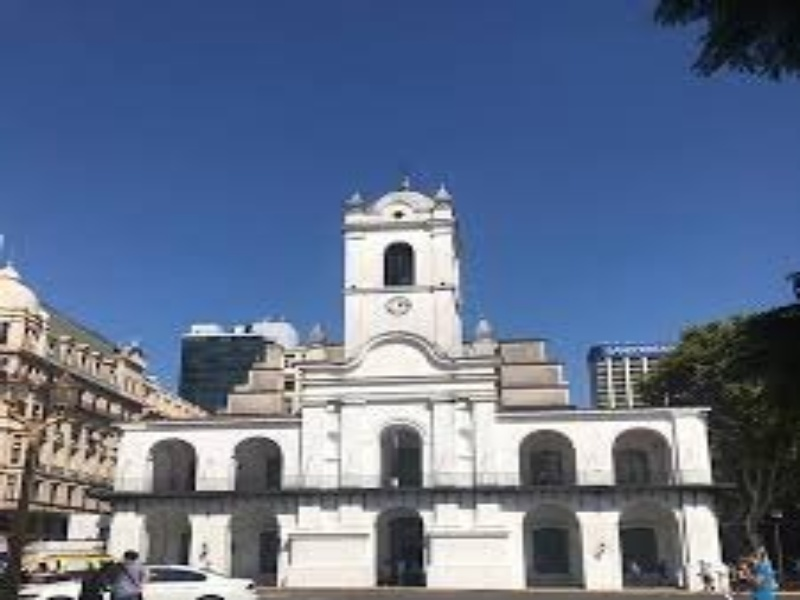cabildo: (86, 174, 742, 586)
